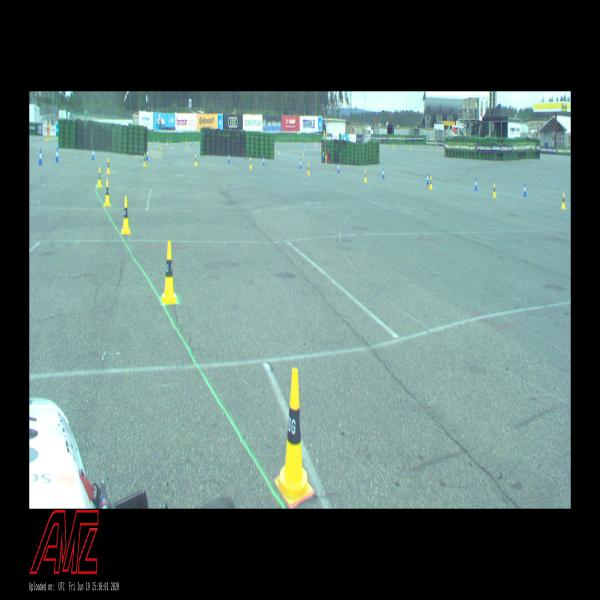blue_cone: (522, 183, 527, 197), (39, 149, 42, 165), (91, 148, 95, 160), (262, 155, 266, 167), (426, 172, 429, 185), (474, 178, 477, 190), (382, 167, 385, 179), (337, 162, 340, 174), (299, 158, 302, 168), (56, 148, 58, 162), (228, 153, 230, 164)
yellow_cone: (275, 368, 313, 508), (161, 241, 178, 303), (121, 196, 131, 234), (103, 179, 111, 206), (561, 192, 566, 209), (97, 167, 101, 188), (106, 158, 111, 174), (142, 152, 146, 168), (492, 183, 496, 198), (194, 152, 198, 166), (429, 176, 433, 189), (249, 156, 253, 169), (364, 169, 367, 183), (306, 163, 309, 174)
